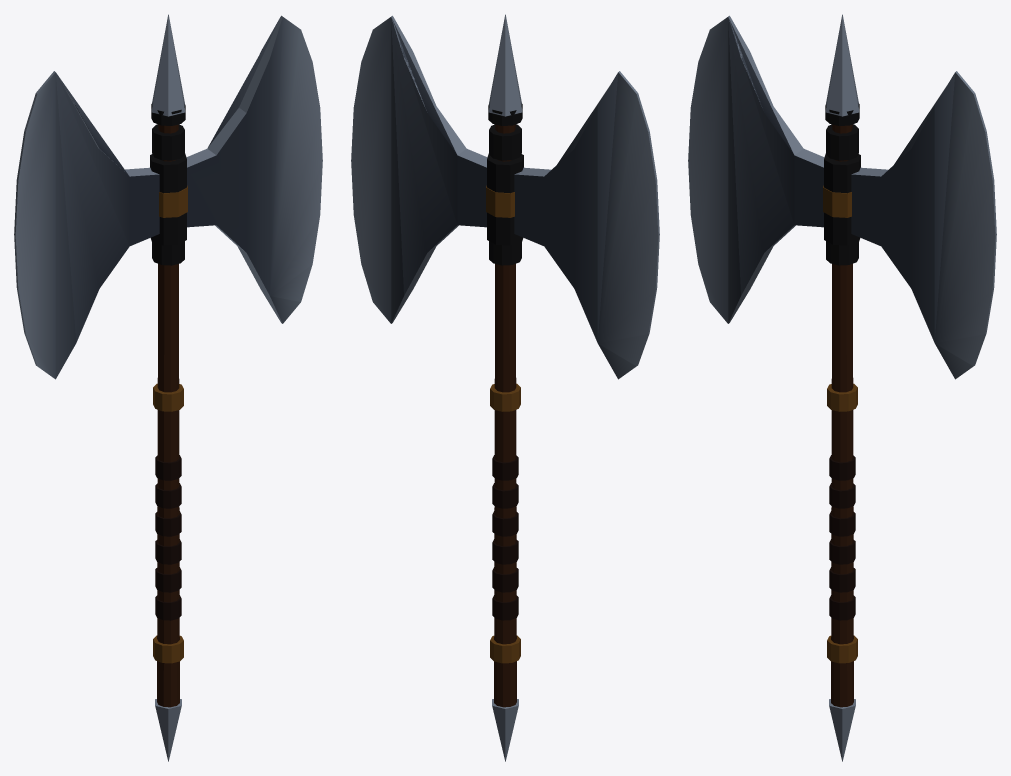
The model's file is Machado.glb.
3 views of the same model, side by side, from view 1: azimuth 30°, elevation 25°; view 2: azimuth 150°, elevation 25°; view 3: azimuth 330°, elevation 25° (orthographic).
Visible parts, largest first — view 1: Machado; view 2: Machado; view 3: Machado.
Part boxes in pixels (box(x1,y1,x2,y2)): Machado: box(14, 14, 322, 761); Machado: box(351, 14, 659, 761); Machado: box(688, 14, 996, 761).
Size of the model in its own units: 0.736 by 1.71 by 0.0832.
